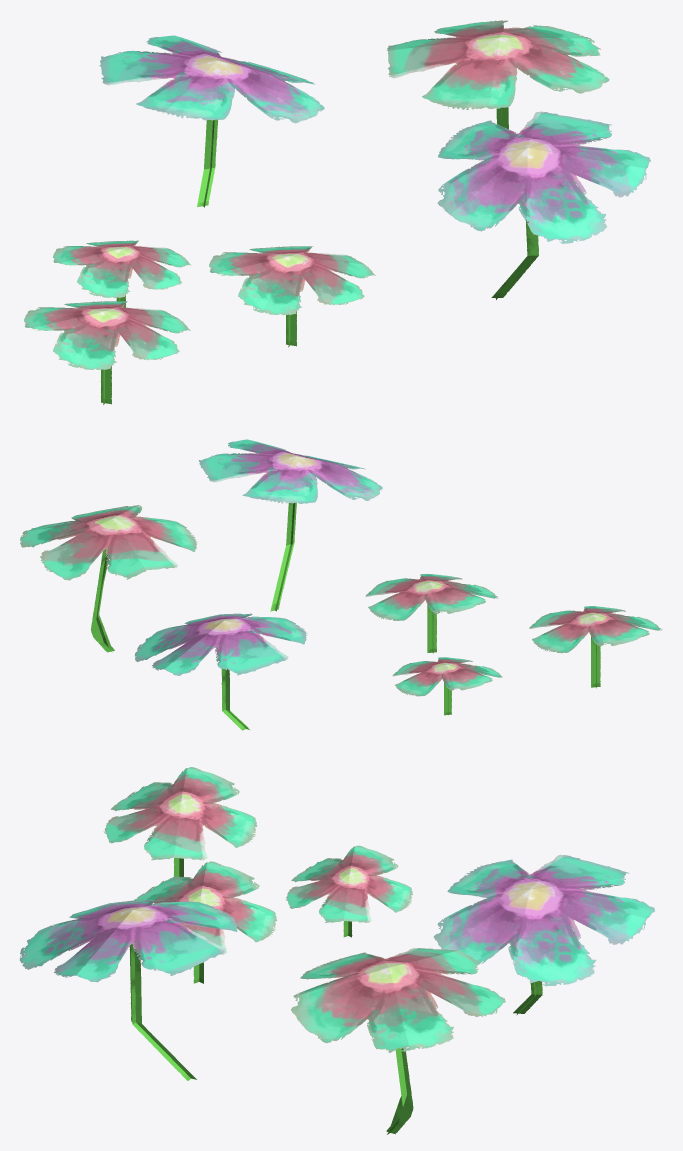
Rendered from T_flower03.fbx.
The picture shows the model from 3 angles, top to bottom: view 1: azimuth 30°, elevation 25°; view 2: azimuth 150°, elevation 25°; view 3: azimuth 270°, elevation 25°; orthographic projection. The views are drawn at different scales.
Parts seen in each view (by area): view 1: FLOWERE01.001; view 2: FLOWERE01.001; view 3: FLOWERE01.001.
Boxes of the visible parts, bbox=[...] form: FLOWERE01.001: bbox=[24, 20, 650, 404]; FLOWERE01.001: bbox=[20, 439, 662, 730]; FLOWERE01.001: bbox=[20, 767, 654, 1134].
Bounding box in the file's own units: 335 × 80.04 × 274.
